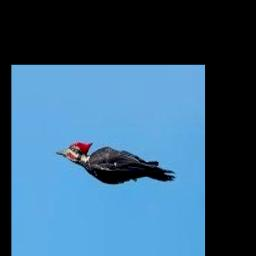Woodpecker: (57, 140, 176, 184)
